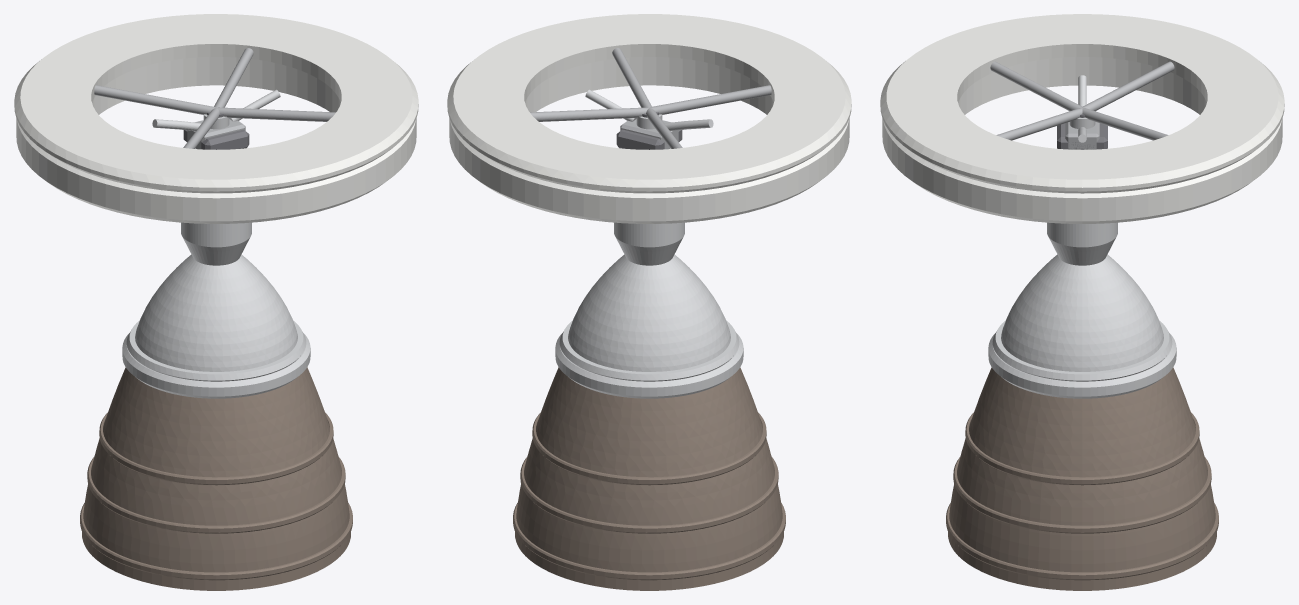
Rendered from ax_prop_08_oms_hypergolic_s.glb.
3 views of the same model, side by side, from view 1: azimuth 30°, elevation 25°; view 2: azimuth 150°, elevation 25°; view 3: azimuth 270°, elevation 25° (orthographic).
Visible parts, largest first — view 1: nozzle_extension, mount_ring, thermal_blanket_ring, regen_nozzle, extension_hoops, thrust_struts, joint_flange, chamber, regen_manifold, gimbal, plumbing; view 2: nozzle_extension, mount_ring, thermal_blanket_ring, regen_nozzle, extension_hoops, thrust_struts, joint_flange, chamber, regen_manifold, gimbal, plumbing; view 3: nozzle_extension, mount_ring, thermal_blanket_ring, regen_nozzle, extension_hoops, thrust_struts, joint_flange, chamber, regen_manifold, valve_block, gimbal.
Part boxes in pixels (<box>): nozzle_extension: <box>82,367,350,590</box>; mount_ring: <box>14,14,418,193</box>; thermal_blanket_ring: <box>16,57,416,223</box>; regen_nozzle: <box>135,254,297,371</box>; extension_hoops: <box>80,412,352,580</box>; thrust_struts: <box>94,48,335,148</box>; joint_flange: <box>122,333,310,398</box>; chamber: <box>181,222,251,265</box>; regen_manifold: <box>126,320,306,381</box>; gimbal: <box>183,112,249,149</box>; plumbing: <box>152,89,280,131</box>; nozzle_extension: <box>515,367,783,590</box>; mount_ring: <box>447,14,851,193</box>; thermal_blanket_ring: <box>449,57,849,223</box>; regen_nozzle: <box>568,254,730,371</box>; extension_hoops: <box>513,412,785,580</box>; thrust_struts: <box>530,48,771,148</box>; joint_flange: <box>555,333,743,398</box>; chamber: <box>614,222,684,265</box>; regen_manifold: <box>559,320,739,381</box>; gimbal: <box>616,112,682,149</box>; plumbing: <box>585,89,713,131</box>; nozzle_extension: <box>948,367,1216,590</box>; mount_ring: <box>880,14,1284,193</box>; thermal_blanket_ring: <box>882,57,1282,223</box>; regen_nozzle: <box>1001,254,1163,371</box>; extension_hoops: <box>946,412,1218,580</box>; thrust_struts: <box>990,61,1174,140</box>; joint_flange: <box>988,333,1176,398</box>; chamber: <box>1047,222,1117,265</box>; regen_manifold: <box>992,320,1172,381</box>; valve_block: <box>1065,122,1099,149</box>; gimbal: <box>1057,114,1107,149</box>.
Size of the model in its own units: 1.25 by 1.49 by 1.25.
